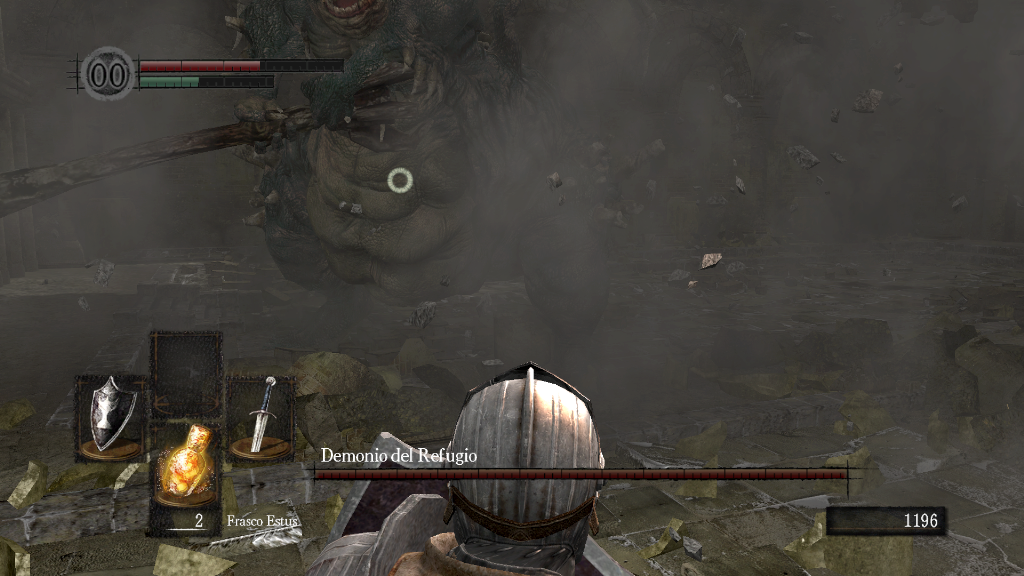asylumDemon: (220, 4, 631, 362)
bossHP: (314, 469, 847, 479)
health: (138, 58, 343, 71)
humanity: (80, 45, 136, 102)
player: (302, 362, 638, 576)
souls: (825, 506, 945, 536)
stamina: (138, 74, 274, 88)
